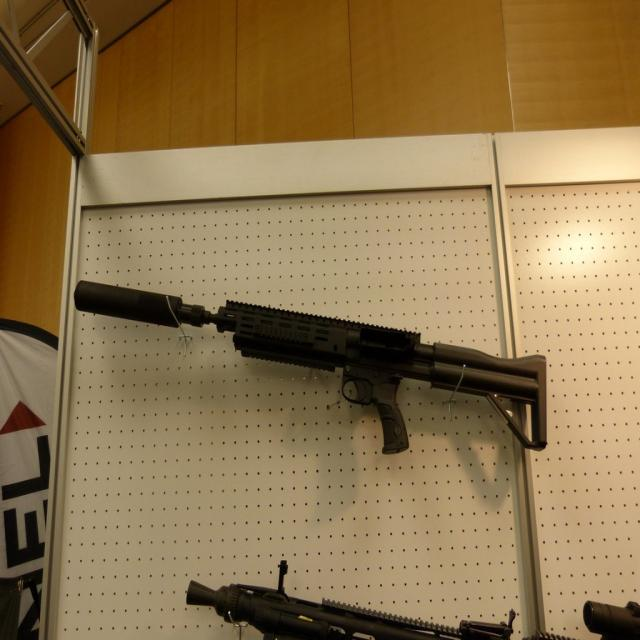firearm: (73, 279, 548, 456), (185, 558, 639, 640)
